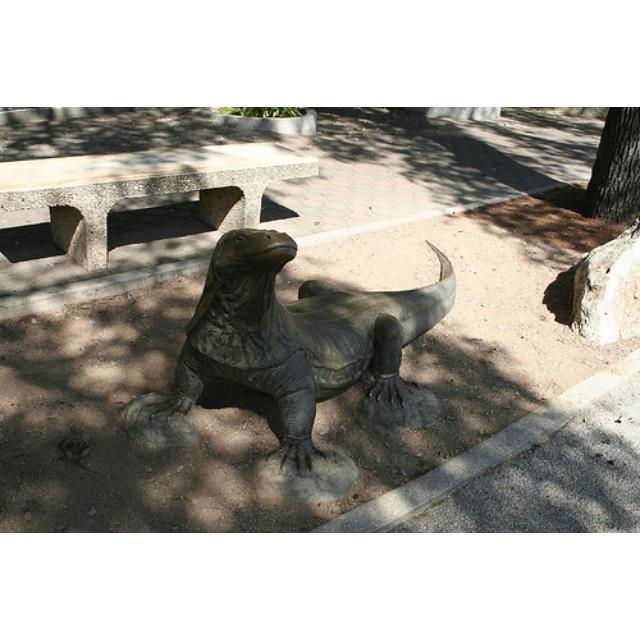KomodoDragon: (114, 226, 455, 476)
